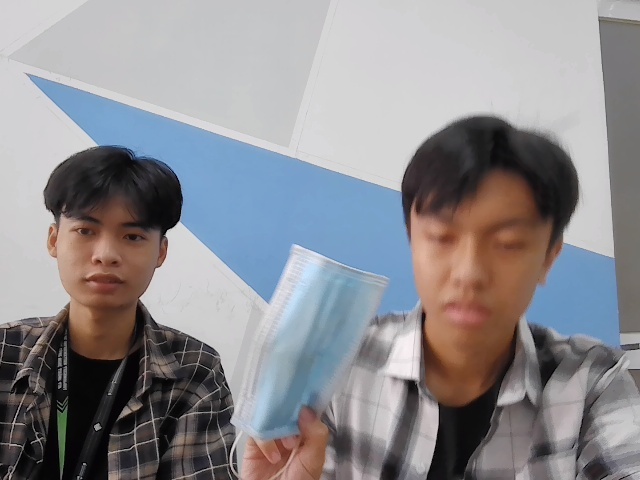human: (402, 110, 568, 345), (44, 139, 180, 309)
mask: (226, 242, 395, 441)
